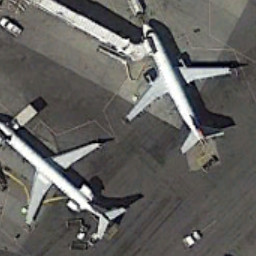Airplane: (1, 100, 129, 245), (116, 13, 239, 155)
